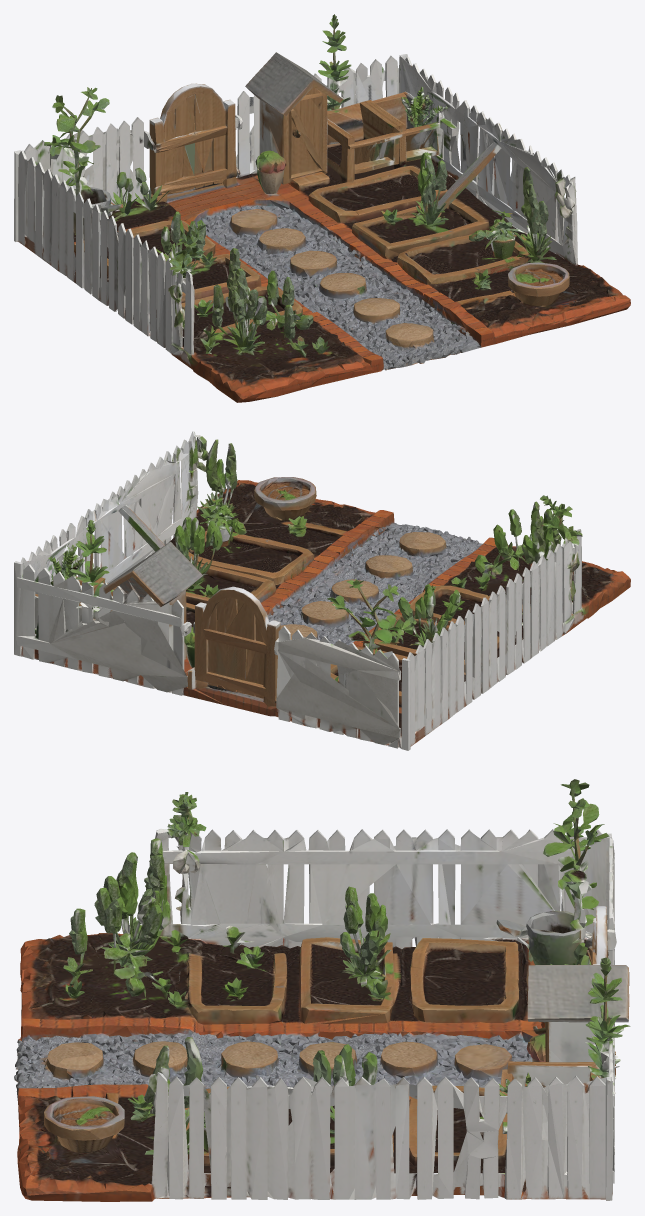
File: garden_base_b.glb
3 views of the same model, one above another, from view 1: azimuth 30°, elevation 25°; view 2: azimuth 150°, elevation 25°; view 3: azimuth 270°, elevation 25° (orthographic). The views are drawn at different scales.
Bounding box in the file's own units: 1.88 × 0.676 × 1.91.
Materials: 1 (1 with a texture image).
